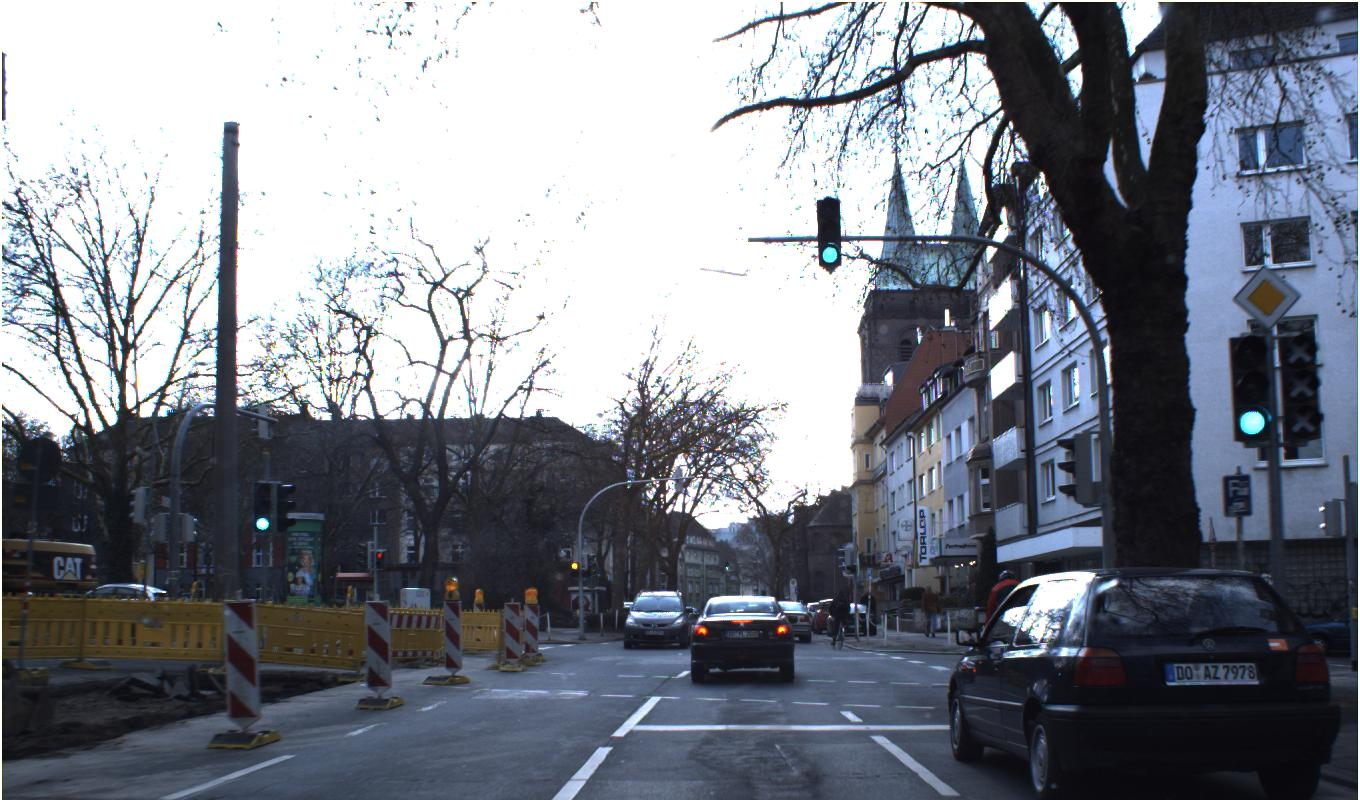sign: (1231, 264, 1302, 331)
